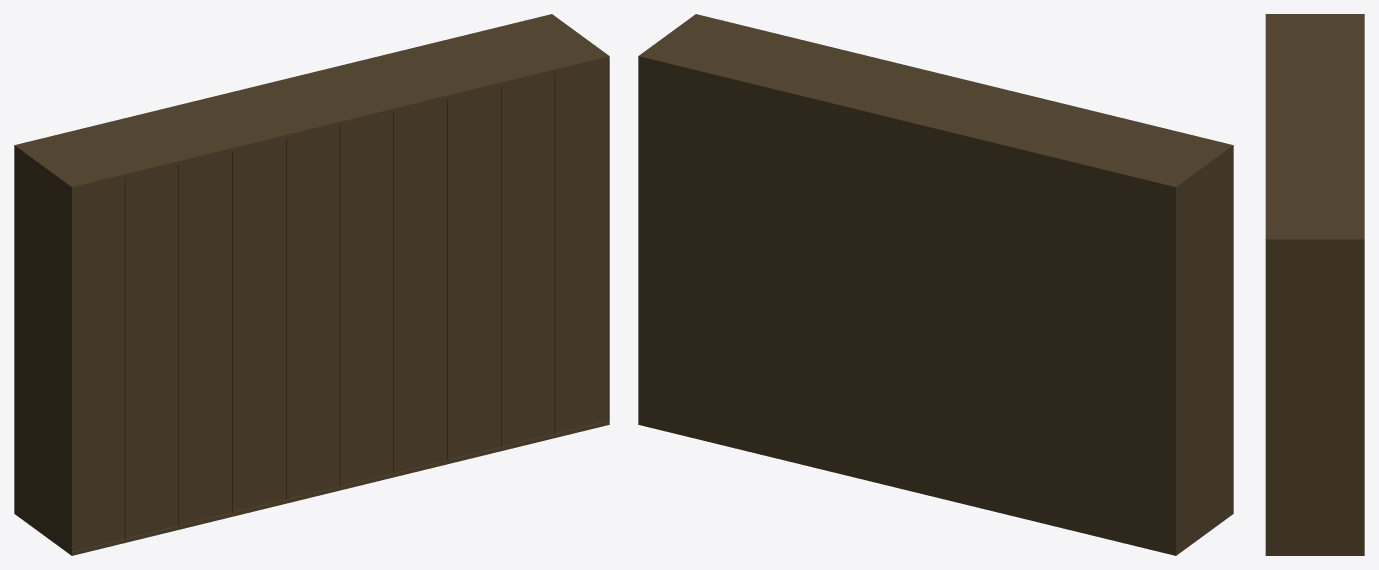
The model's file is locker.dae.
3 views of the same model, side by side, from view 1: azimuth 30°, elevation 25°; view 2: azimuth 150°, elevation 25°; view 3: azimuth 270°, elevation 25° (orthographic). The views are drawn at different scales.
Parts seen in each view (by area): view 1: locker; view 2: locker; view 3: locker.
Boxes of the visible parts, x1,y1,x2,y2 form: locker: [14, 14, 609, 555]; locker: [638, 14, 1233, 555]; locker: [1265, 14, 1364, 555].
Size of the model in its own units: 3.64 by 0.6965 by 2.38.
1 material, 1 textured.
